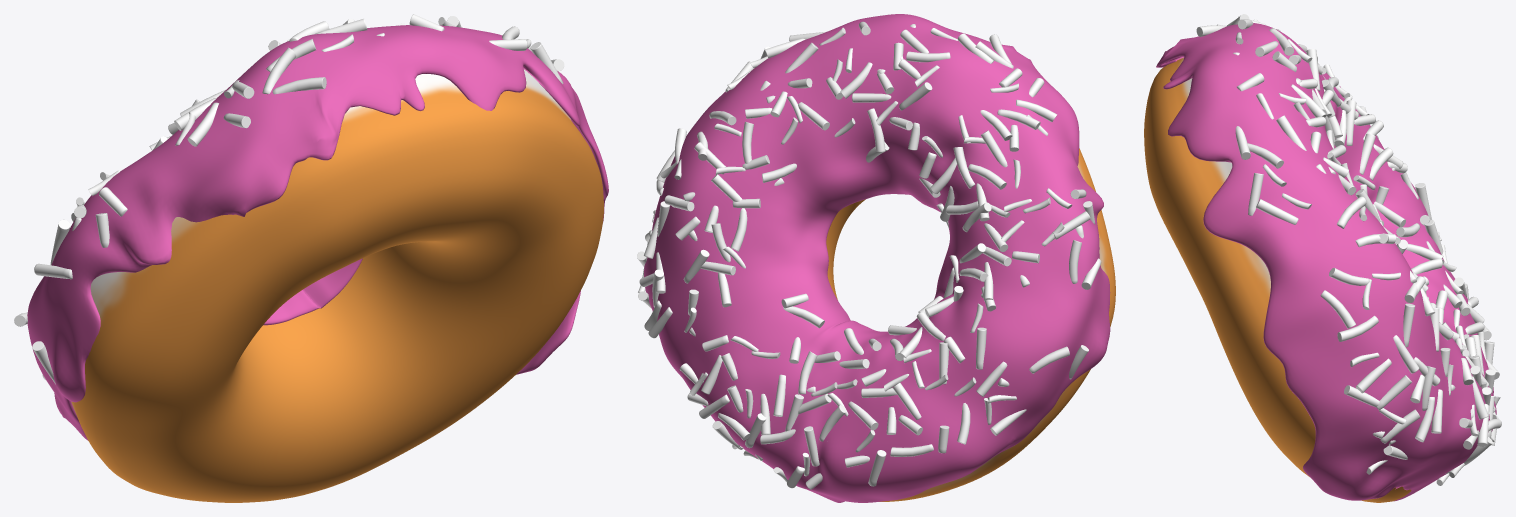
File: donuts.glb
3 renders of one model, left to right at view 1: azimuth 30°, elevation 25°; view 2: azimuth 150°, elevation 25°; view 3: azimuth 270°, elevation 25°, orthographic. The views are drawn at different scales.
Visible parts, largest first — view 1: Donut, Cobertura; view 2: Cobertura, Donut; view 3: Cobertura, Donut, GN Instance (×8).
Boxes of the visible parts, x1,y1,x2,y2 form: Donut: [71, 69, 603, 502]; Cobertura: [27, 25, 608, 440]; Cobertura: [644, 14, 1110, 502]; Donut: [826, 148, 1115, 501]; Cobertura: [1156, 23, 1496, 501]; Donut: [1144, 57, 1411, 502]; GN Instance (×8): [1248, 173, 1434, 442].
Bounding box in the file's own units: 0.0941 × 0.0864 × 0.0634.
3 materials, 1 textured.
